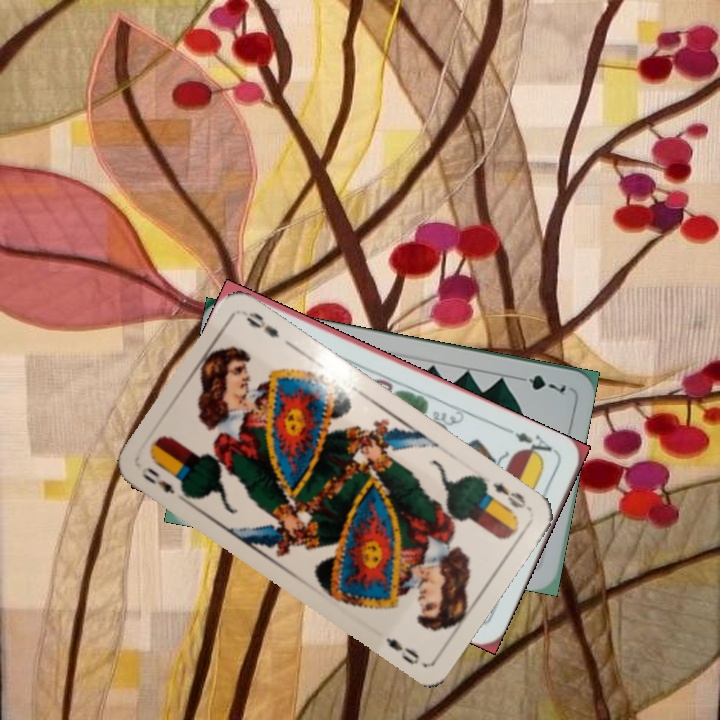EA: (511, 428, 559, 463)
EO: (488, 479, 533, 513), (137, 462, 178, 497)
G7: (511, 371, 569, 395)
